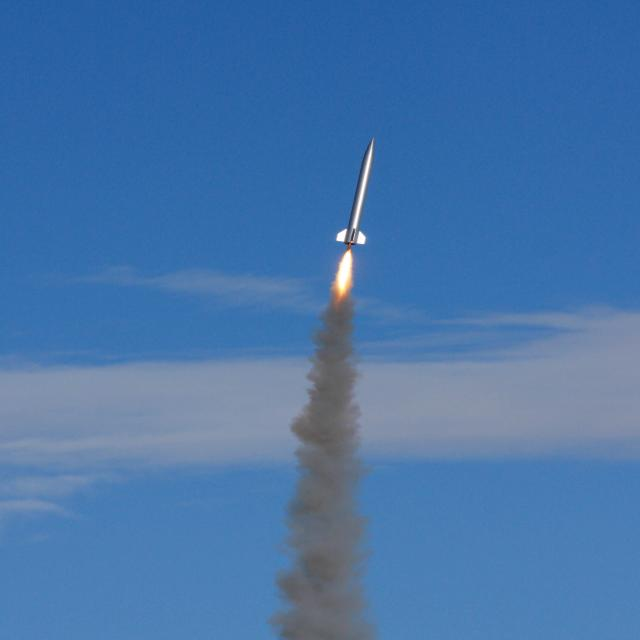Rocket: (336, 137, 375, 246)
